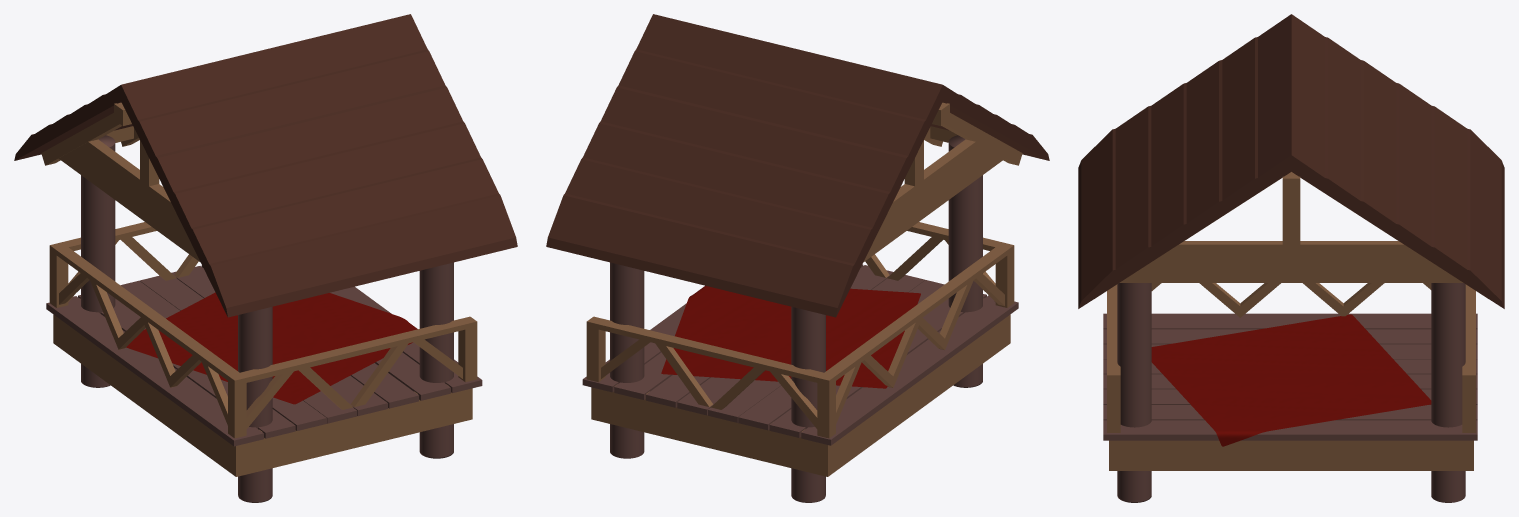
Rendered from Saung.fbx.
3 views of the same model, side by side, from view 1: azimuth 30°, elevation 25°; view 2: azimuth 150°, elevation 25°; view 3: azimuth 270°, elevation 25° (orthographic).
Visible parts, largest first — view 1: Cube.004, Cube.002, Cube, Cube.001, Cylinder, Plane, Cube.005; view 2: Cube.004, Cube.002, Cube, Cube.001, Plane, Cylinder, Cube.005; view 3: Cube.004, Plane, Cube, Cube.005, Cylinder, Cube.001, Cube.002.
Part boxes in pixels (<box>): Cube.004: <box>14,14,517,317</box>; Cube.002: <box>49,222,477,438</box>; Cube: <box>46,265,482,446</box>; Cube.001: <box>53,298,472,476</box>; Cylinder: <box>81,135,453,502</box>; Plane: <box>126,292,417,404</box>; Cube.005: <box>41,102,200,262</box>; Cube.004: <box>546,14,1049,317</box>; Cube.002: <box>586,222,1014,438</box>; Cube: <box>582,264,1018,445</box>; Cube.001: <box>591,298,1010,476</box>; Plane: <box>661,285,920,388</box>; Cylinder: <box>610,135,982,502</box>; Cube.005: <box>863,102,1022,262</box>; Cube.004: <box>1078,14,1504,308</box>; Plane: <box>1151,314,1431,446</box>; Cube: <box>1103,313,1477,440</box>; Cube.005: <box>1095,172,1487,298</box>; Cylinder: <box>1117,283,1465,502</box>; Cube.001: <box>1109,440,1473,470</box>; Cube.002: <box>1107,283,1475,432</box>.
Size of the model in its own units: 326 by 386 by 408.
